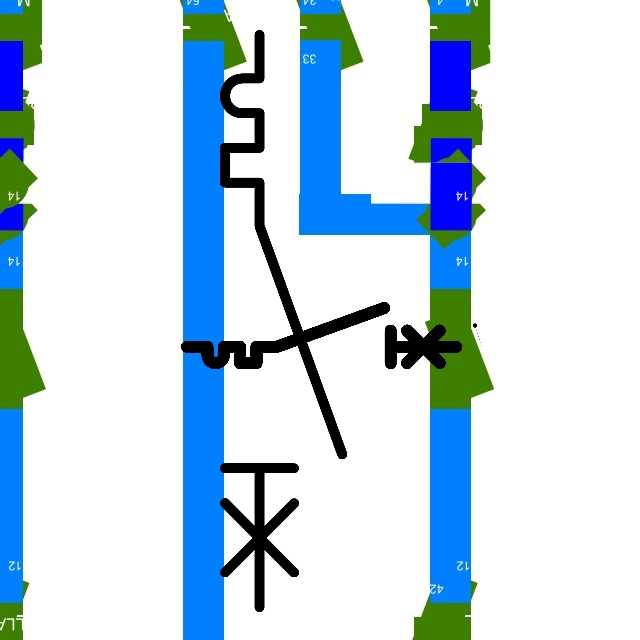interruptor_termomagnetico: (210, 20, 357, 622), (180, 301, 463, 370)
